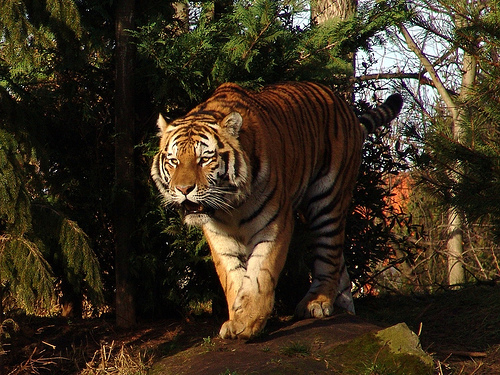Tigre: (147, 69, 389, 314)
